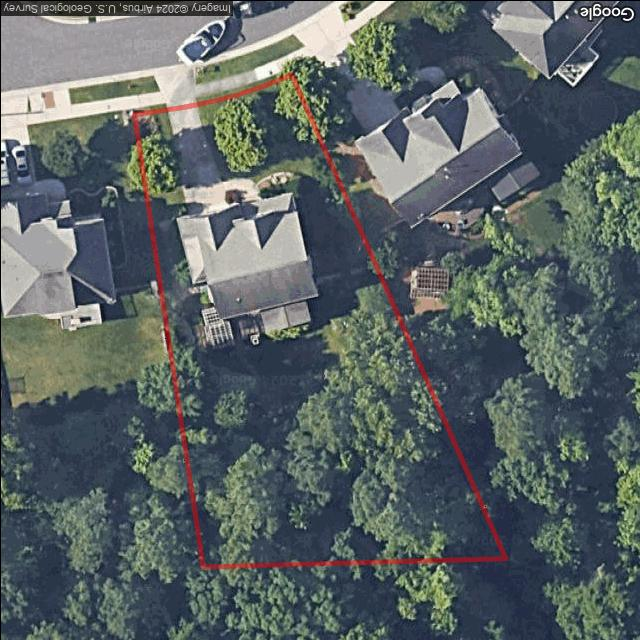Driveway: (165, 104, 264, 217)
Extra-Driveway: (151, 66, 197, 110)
Extra-Lawn: (194, 42, 281, 84), (195, 68, 292, 102), (123, 75, 158, 94), (131, 103, 165, 116)
Extra-Sidewalk: (195, 56, 288, 99), (128, 90, 163, 107)
House: (173, 190, 319, 333)
Lawn: (134, 75, 502, 566)
Other: (162, 294, 504, 566), (183, 301, 269, 357), (252, 171, 294, 197)
